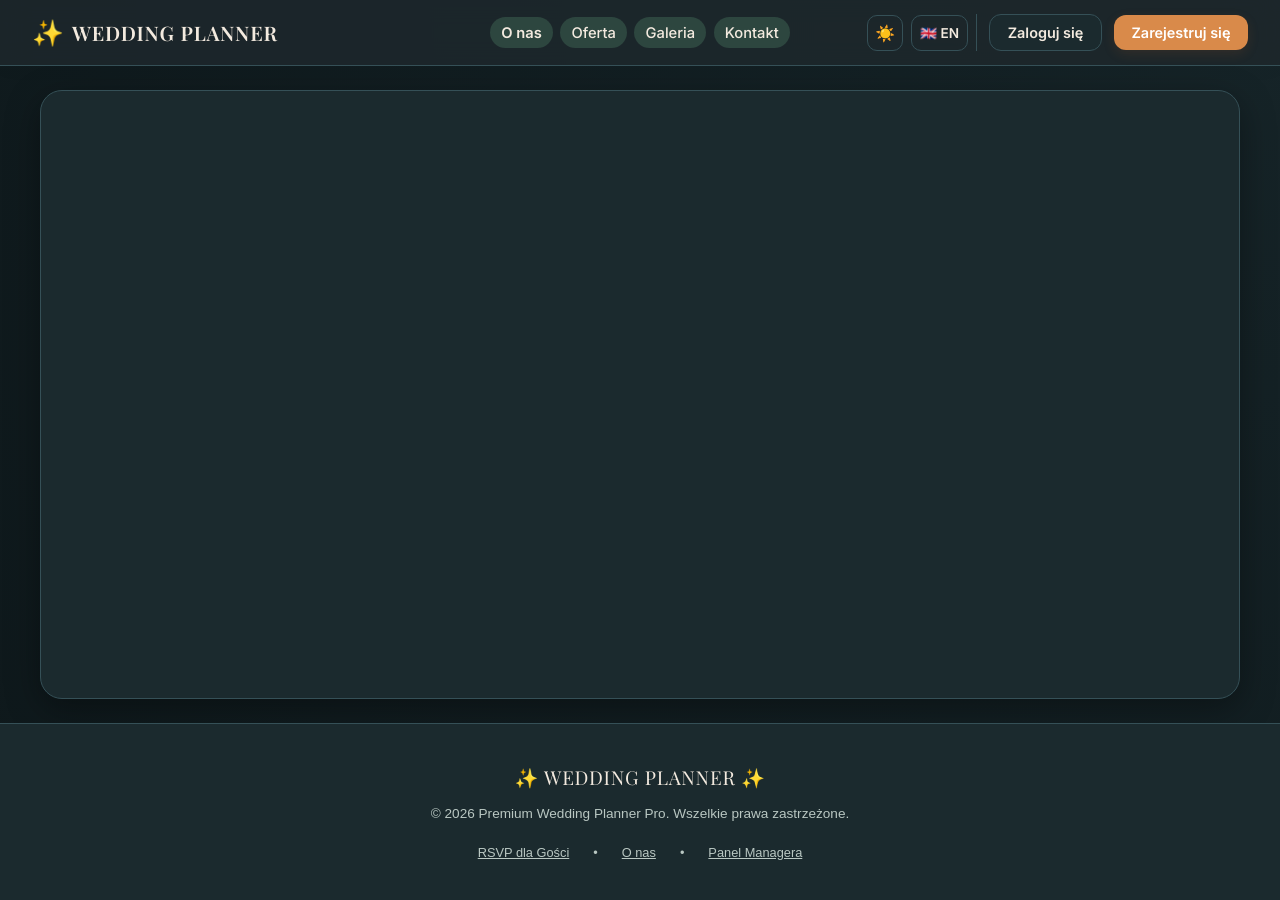
Test: AppShell Component › toggles language when language button is clicked
Toggle language
Click the button titled "Język strony" at [940, 33], box [911,15,968,51]
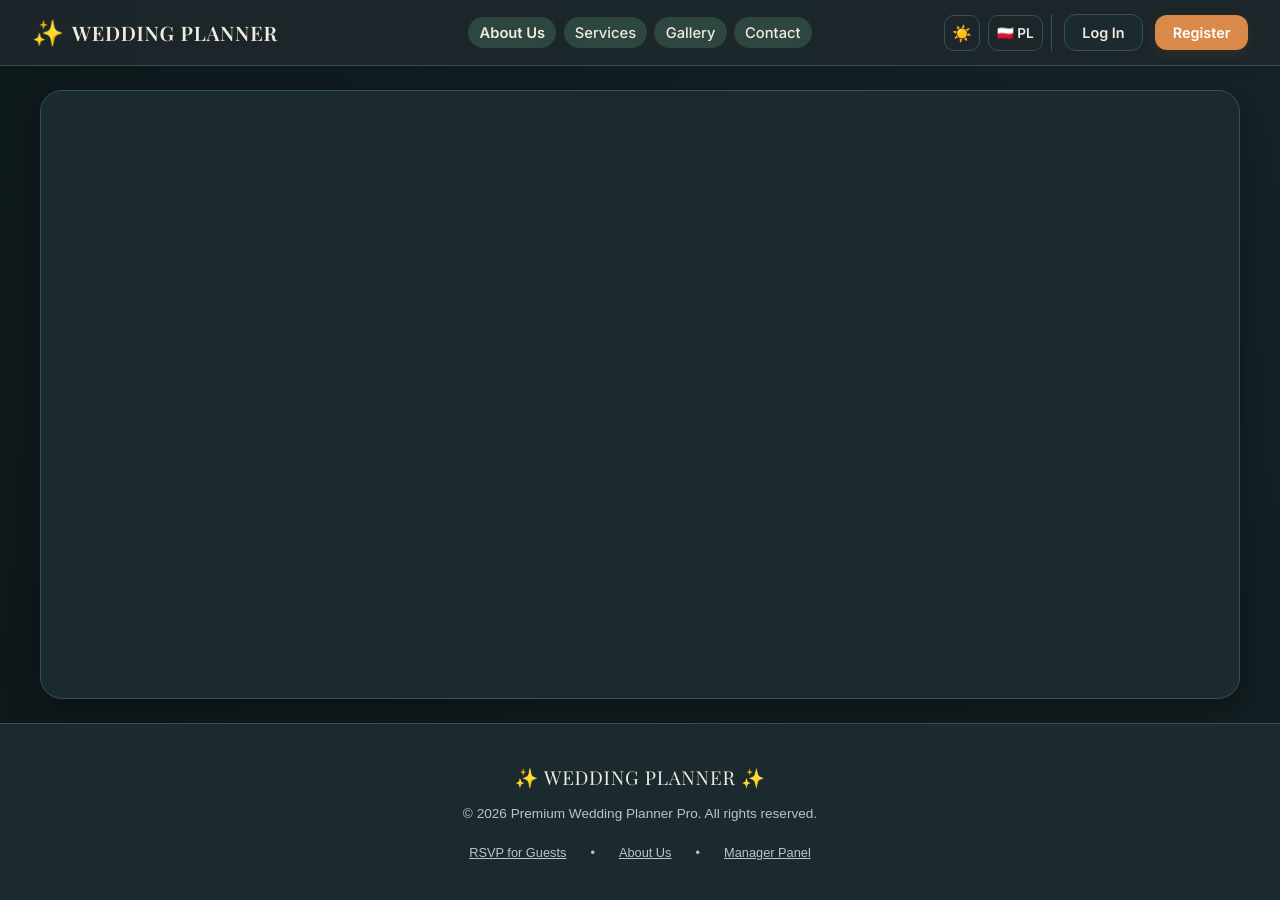
Now the button titled "🇬🇧 EN" no longer shows "🇬🇧 EN"
